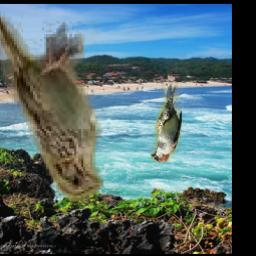Sparrow: (0, 12, 104, 201), (152, 84, 183, 163)
